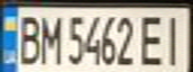2: (115, 11, 139, 66)
4: (81, 11, 103, 65)
5: (63, 11, 84, 65)
6: (100, 11, 121, 66)
B: (12, 11, 42, 65)
E: (136, 11, 169, 68)
I: (157, 11, 190, 66)
M: (36, 11, 63, 65)
